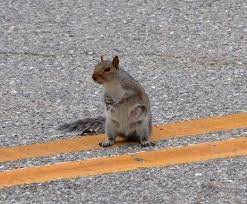squirrel: (88, 54, 160, 149)
